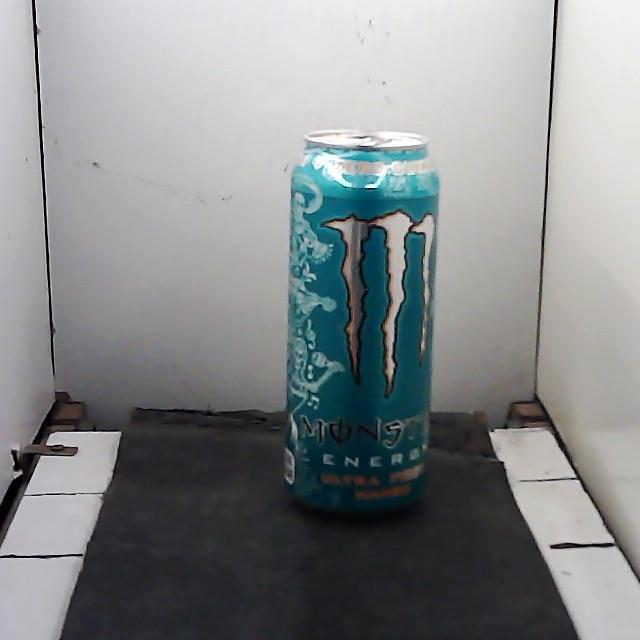metal: (285, 130, 439, 512)
